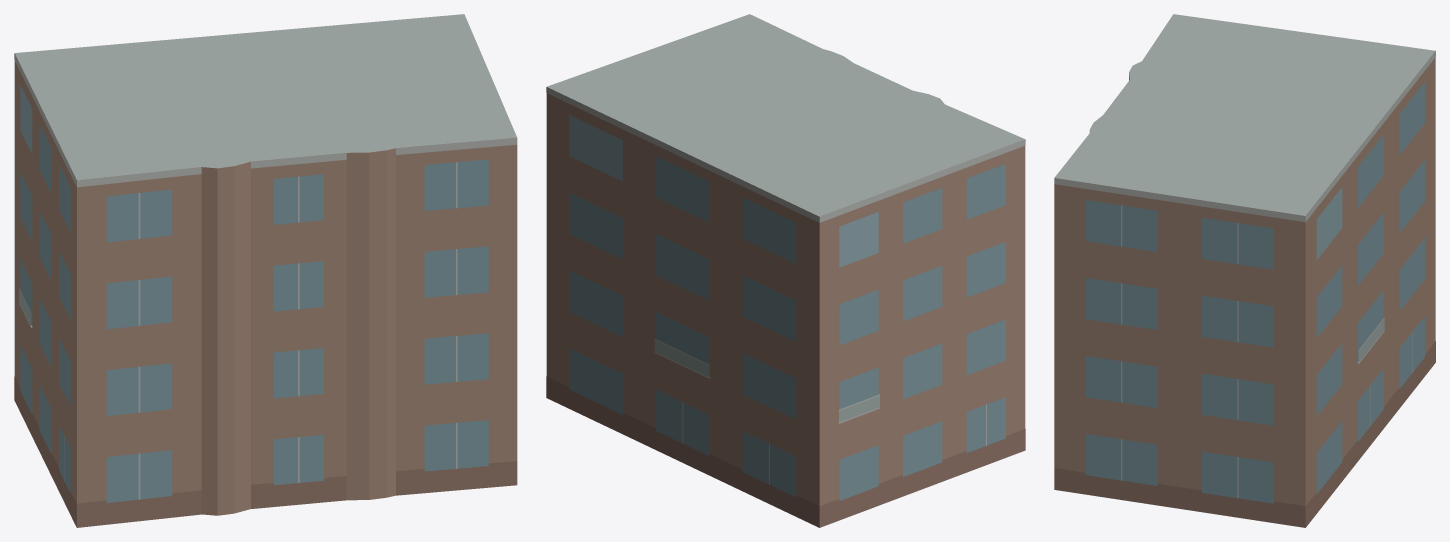
Rendered from survey-upis-32668821.glb.
The picture shows the model from 3 angles, left to right: view 1: azimuth 30°, elevation 25°; view 2: azimuth 150°, elevation 25°; view 3: azimuth 270°, elevation 25°; orthographic projection. The views are drawn at different scales.
Visible parts, largest first — view 1: survey-upis-32668821.tmp; view 2: survey-upis-32668821.tmp; view 3: survey-upis-32668821.tmp.
Boxes of the visible parts, <box> form: survey-upis-32668821.tmp: <box>14,14,517,527</box>; survey-upis-32668821.tmp: <box>546,14,1025,527</box>; survey-upis-32668821.tmp: <box>1054,14,1435,527</box>.
Bounding box in the file's own units: 16.96 × 12.2 × 13.53.
